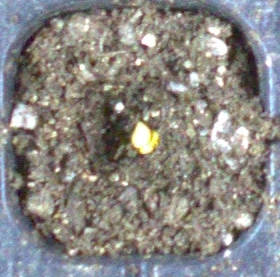pepper seed: (57, 51, 216, 206), (52, 46, 205, 195)
